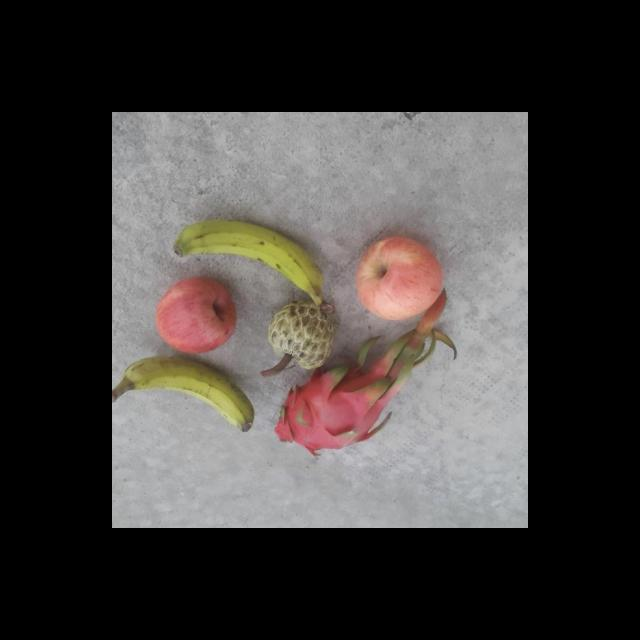Sakya fruit: (266, 298, 342, 375)
apple: (358, 238, 446, 319), (152, 282, 244, 354)
banana: (169, 214, 332, 318), (112, 356, 262, 442)
pitaya: (273, 376, 385, 458)
